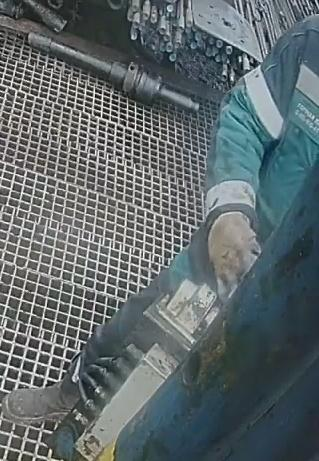gloves: (204, 209, 258, 302)
vest: (243, 14, 318, 247)
